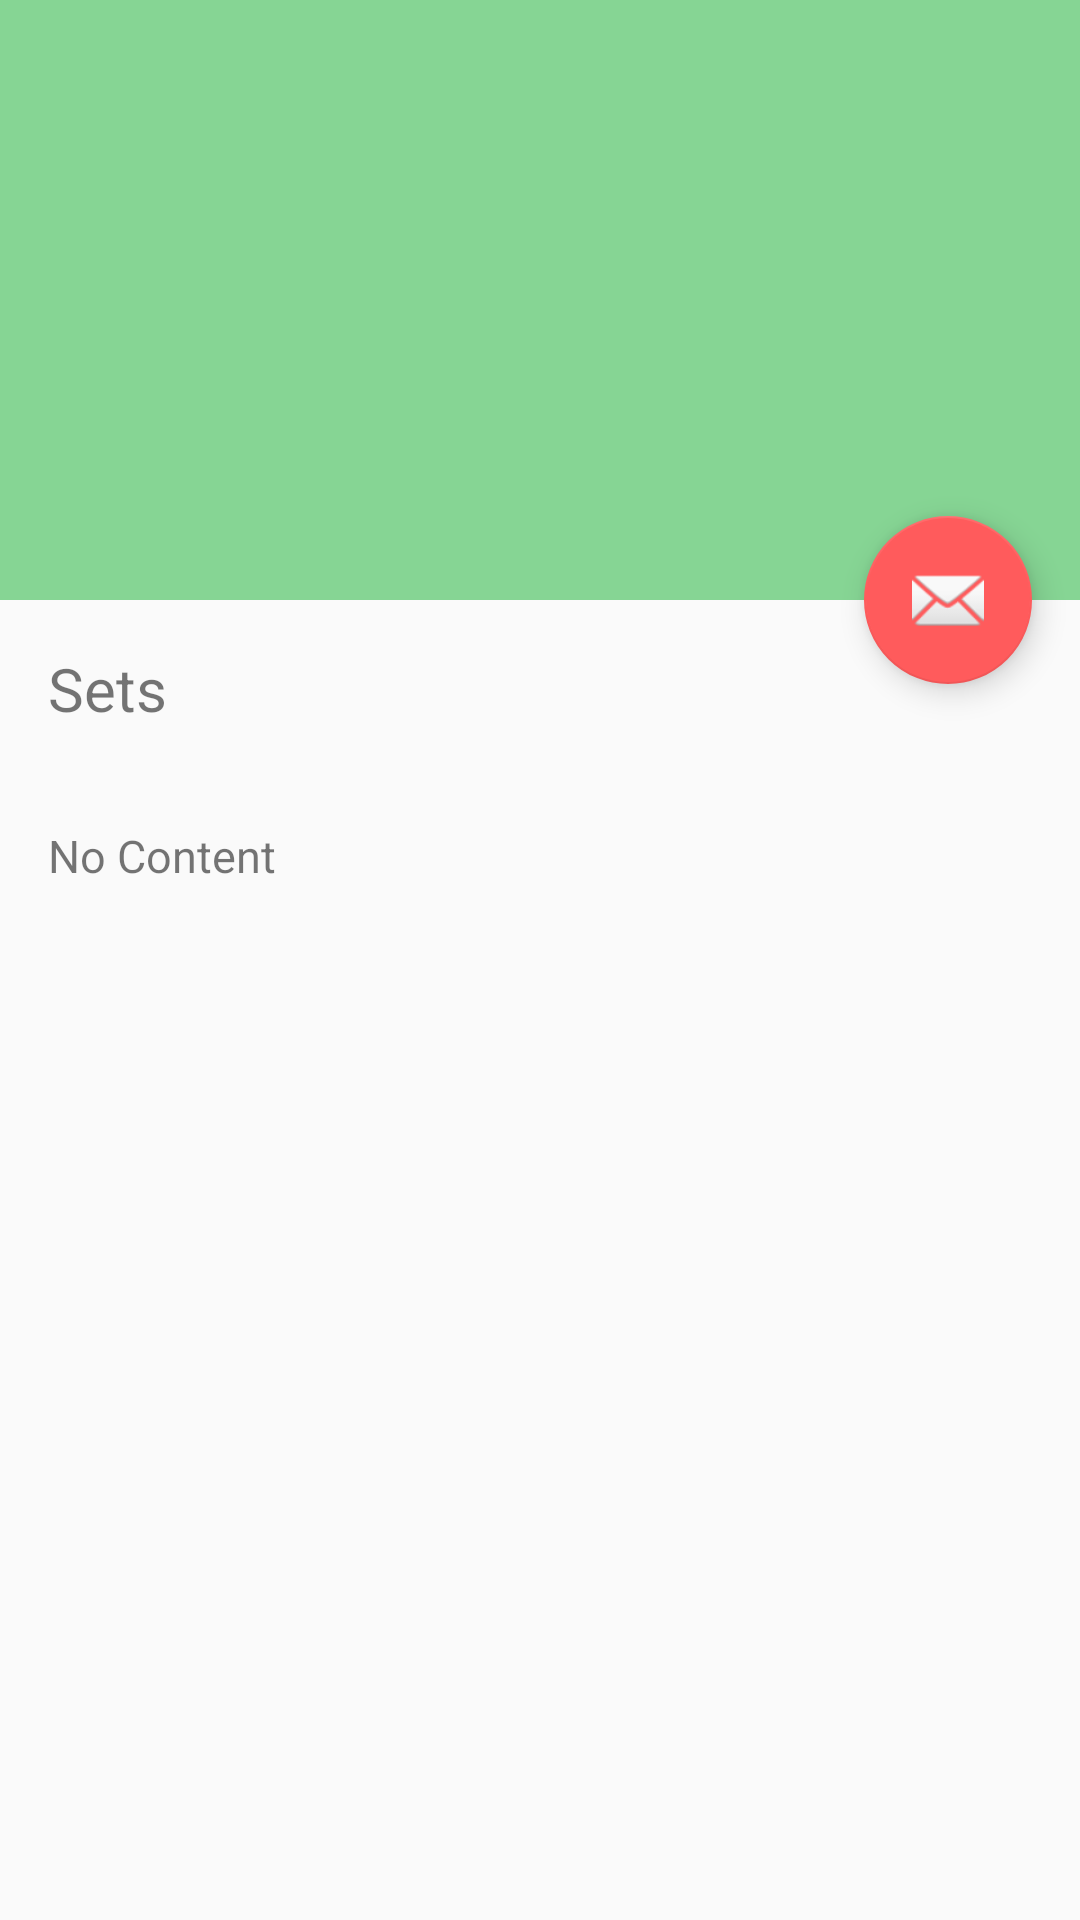

Named icons in this screenshot (1080w x 1920h) and their centers, (x,y):
email: (948,600)
